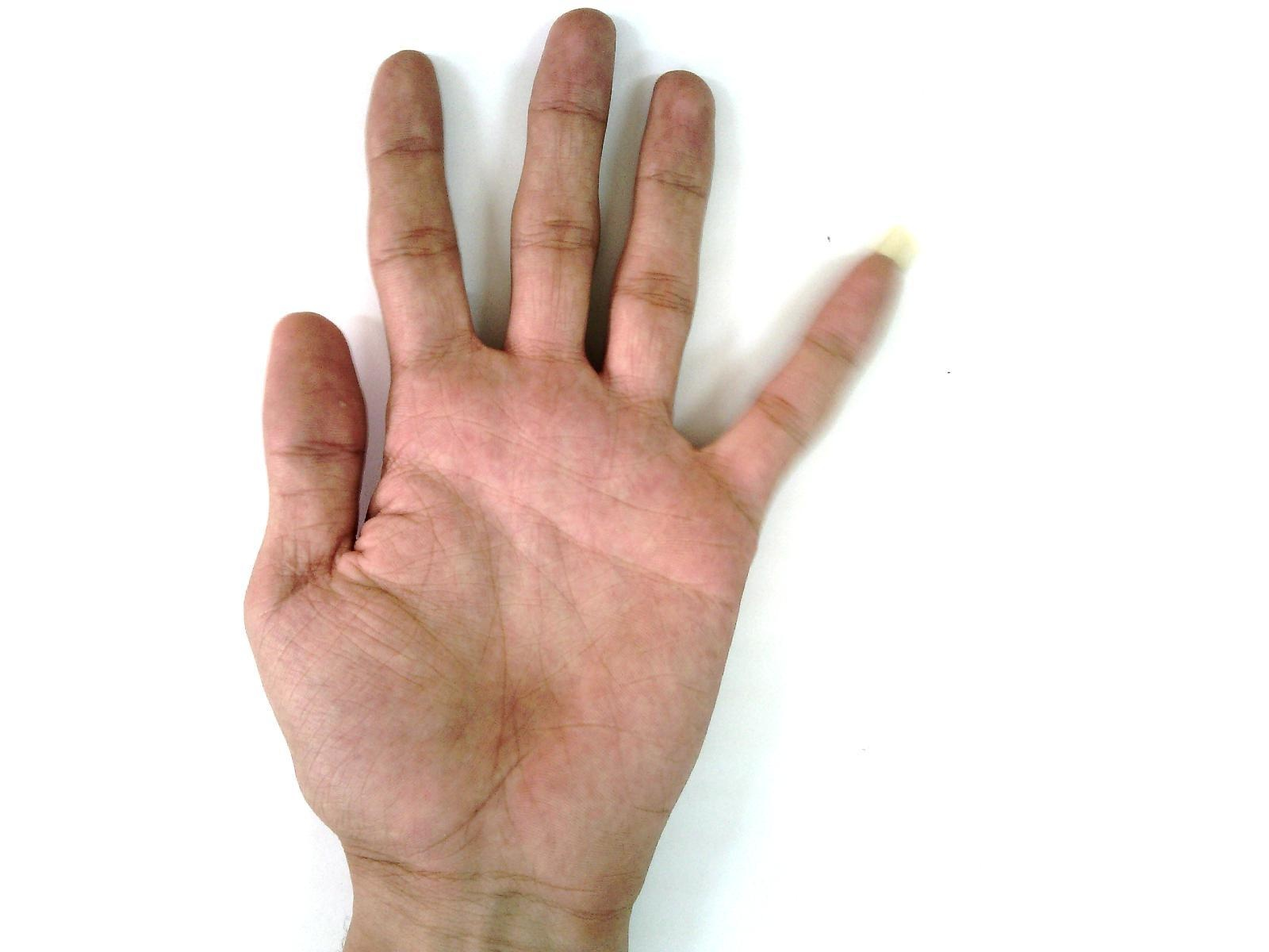open_palm: (240, 9, 916, 920)
